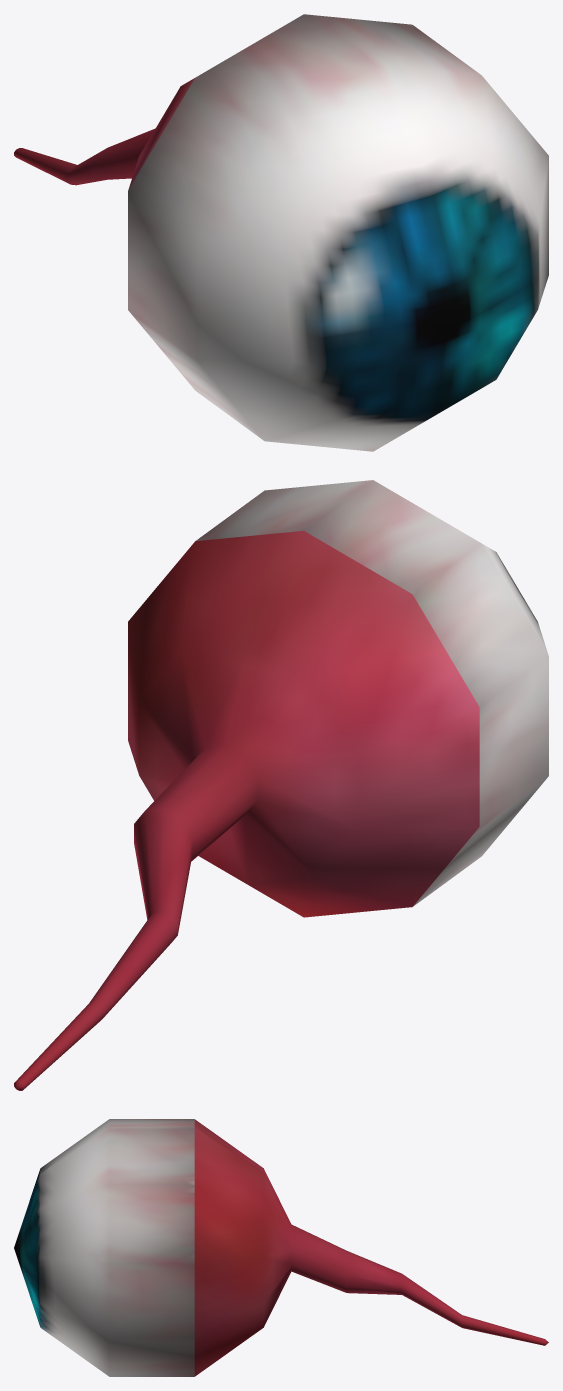
File: gouged_eyeball.FBX
The picture shows the model from 3 angles, top to bottom: view 1: azimuth 30°, elevation 25°; view 2: azimuth 150°, elevation 25°; view 3: azimuth 270°, elevation 25°; orthographic projection. The views are drawn at different scales.
Parts seen in each view (by area): view 1: gouged_eyeball; view 2: gouged_eyeball; view 3: gouged_eyeball.
Boxes of the visible parts, <box> form: gouged_eyeball: <box>14,14,548,451</box>; gouged_eyeball: <box>14,480,548,1090</box>; gouged_eyeball: <box>14,1119,548,1376</box>.
Bounding box in the file's own units: 4.22 × 4.44 × 9.04.
